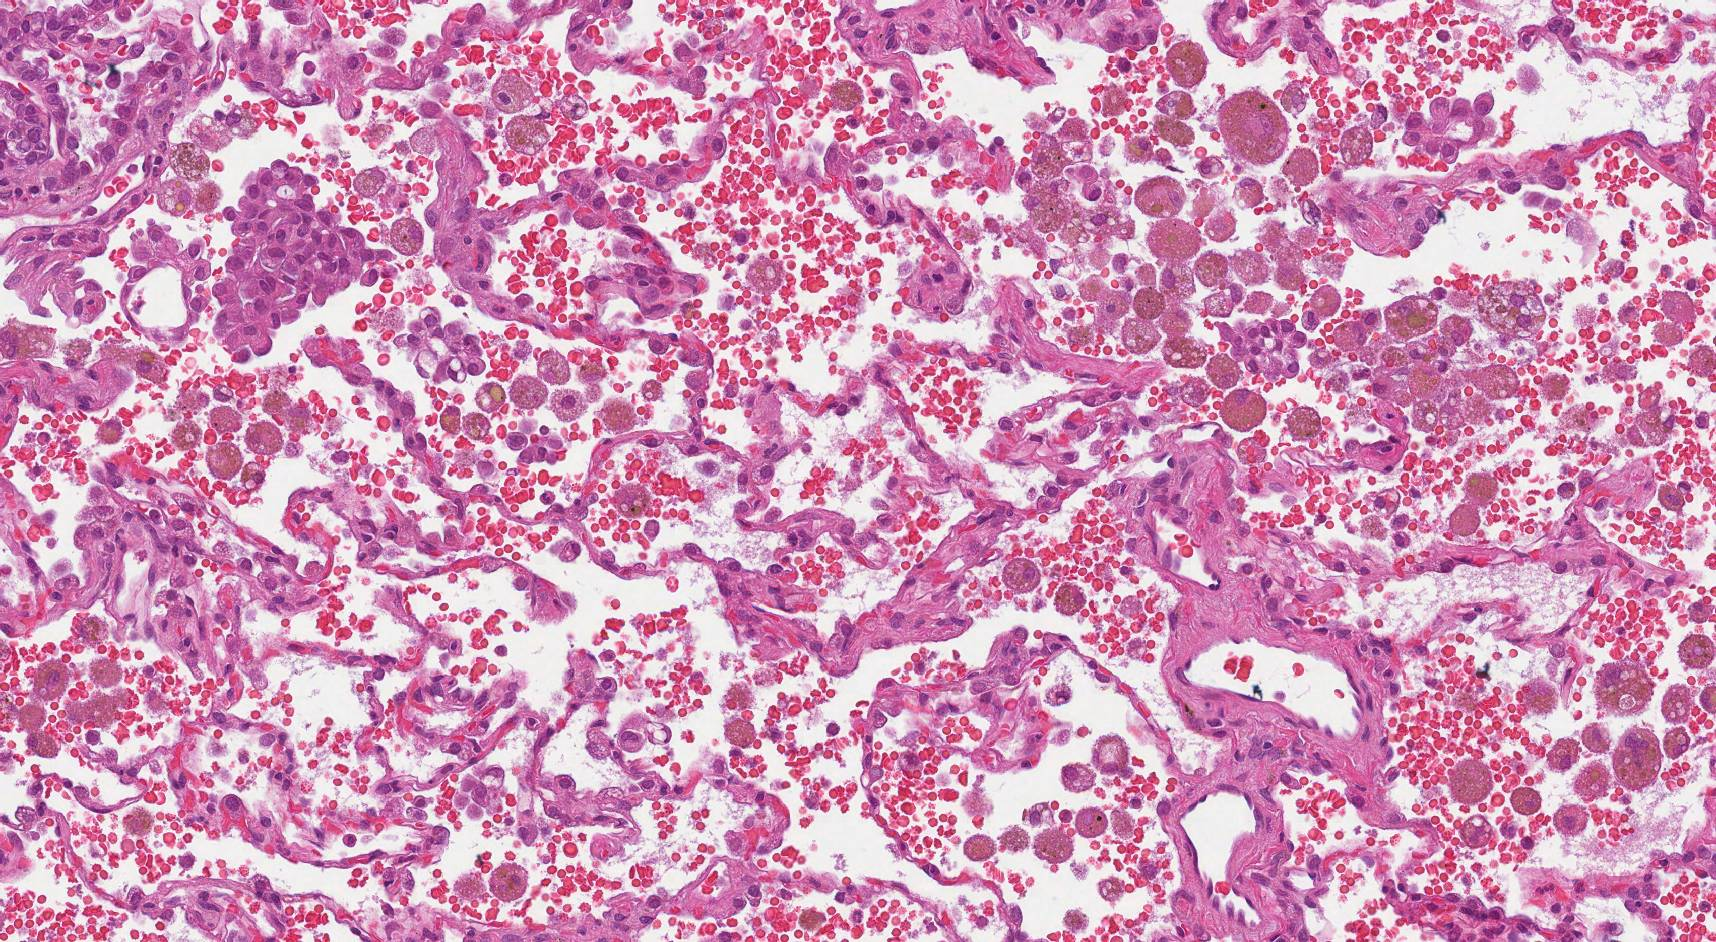stas: (214, 160, 397, 365), (395, 303, 487, 383), (1401, 93, 1500, 158), (1228, 316, 1311, 378)
